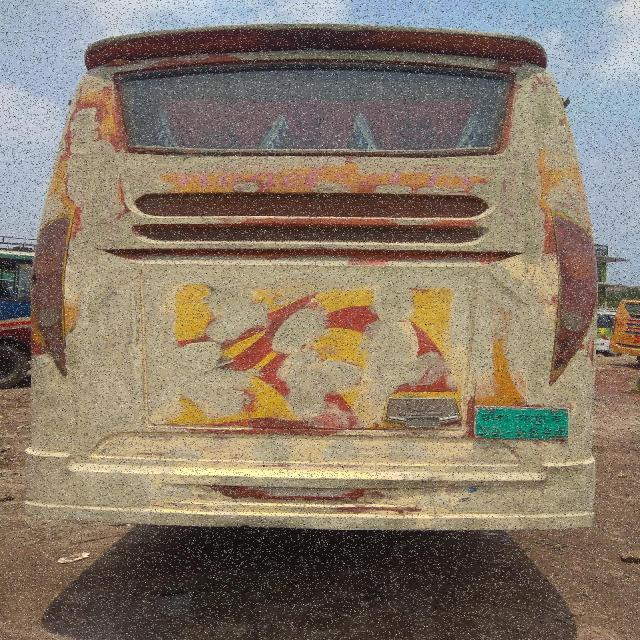numberplate: (472, 405, 569, 441)
